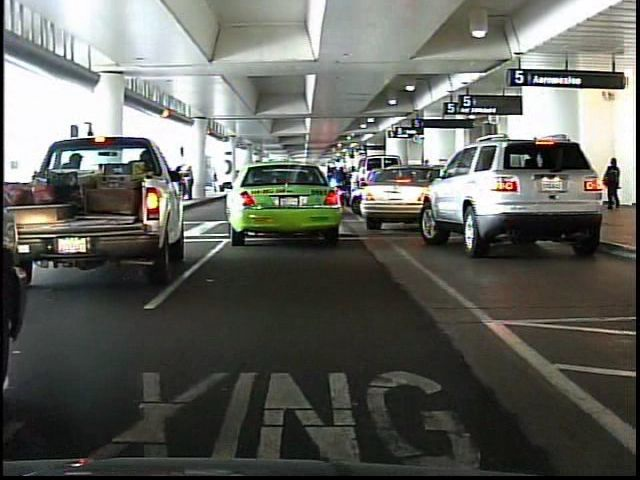person: (606, 159, 628, 216)
